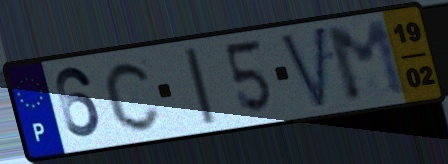5: (220, 39, 276, 117)
6: (53, 64, 105, 144)
C: (102, 58, 164, 134)
I: (180, 44, 219, 128)
M: (322, 16, 413, 106)
V: (277, 22, 329, 113)
